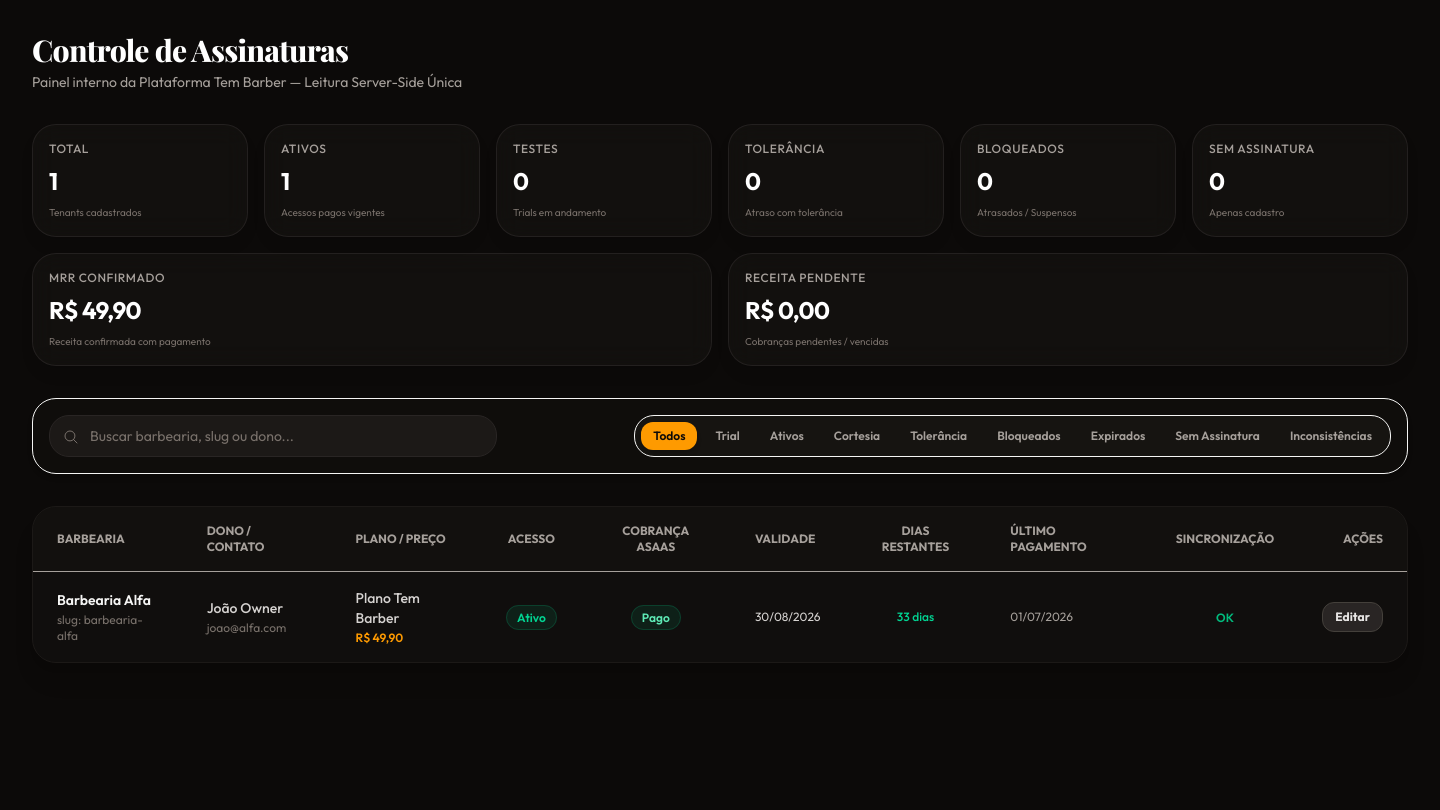
Test case: Domain D — Platform Dashboard UI (platform-dashboard.ui.test.tsx) › 6. Renderiza o histórico de grants com status ATIVA, AGENDADA, EXPIRADA e REVOGADA (PLATFORM_COURTESY_HISTORY_TEST)
Click the button "Editar". click: {"x": 1353, "y": 617}
box: 1322,602 -> 1383,632
(page scrolled)
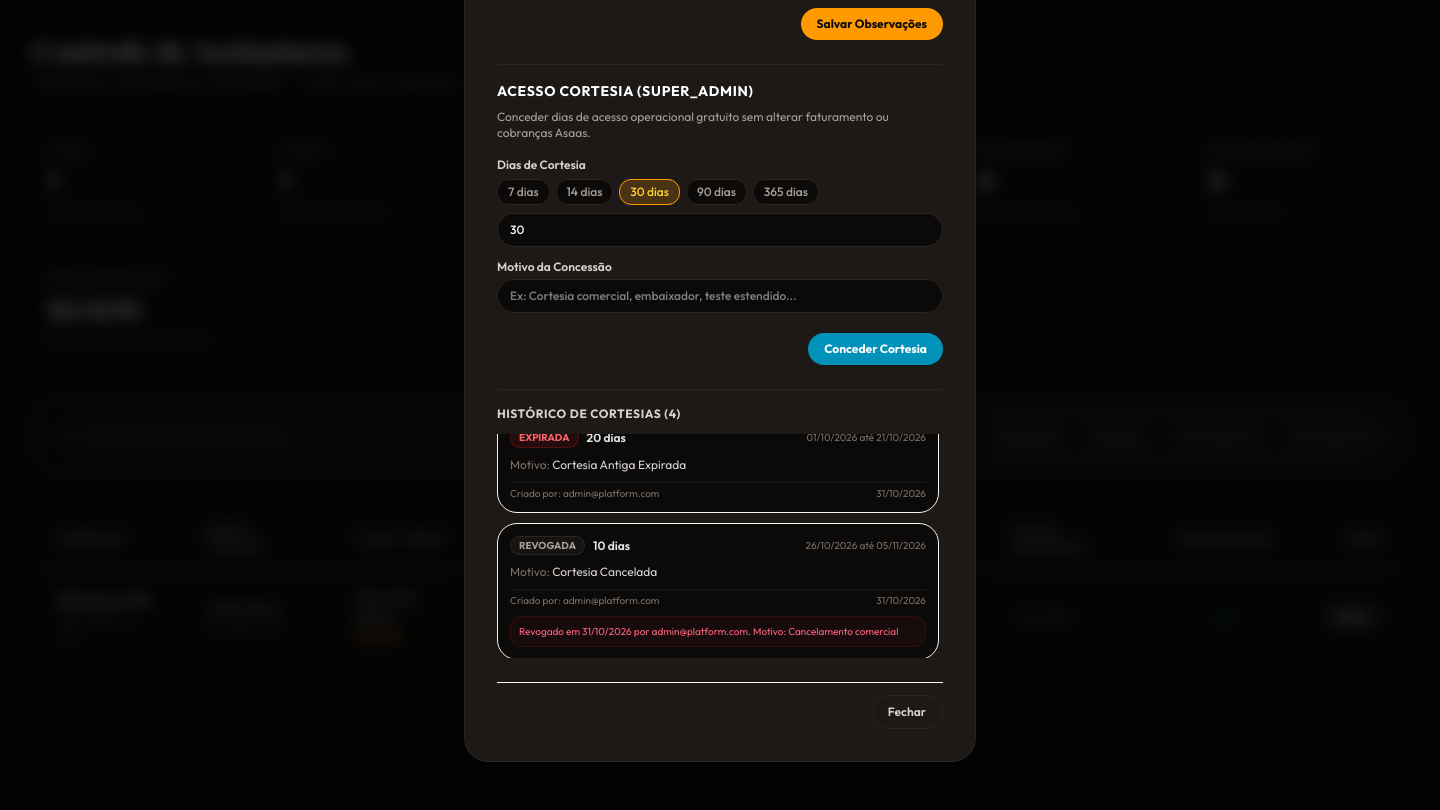
Result: the heading "Histórico de Cortesias (4)" is shown at 497,406 -> 681,421
Result: the text "Cortesia Antiga Expirada" is shown at 552,457 -> 686,472
Result: the text "Cortesia Cancelada" is shown at 552,564 -> 657,579
